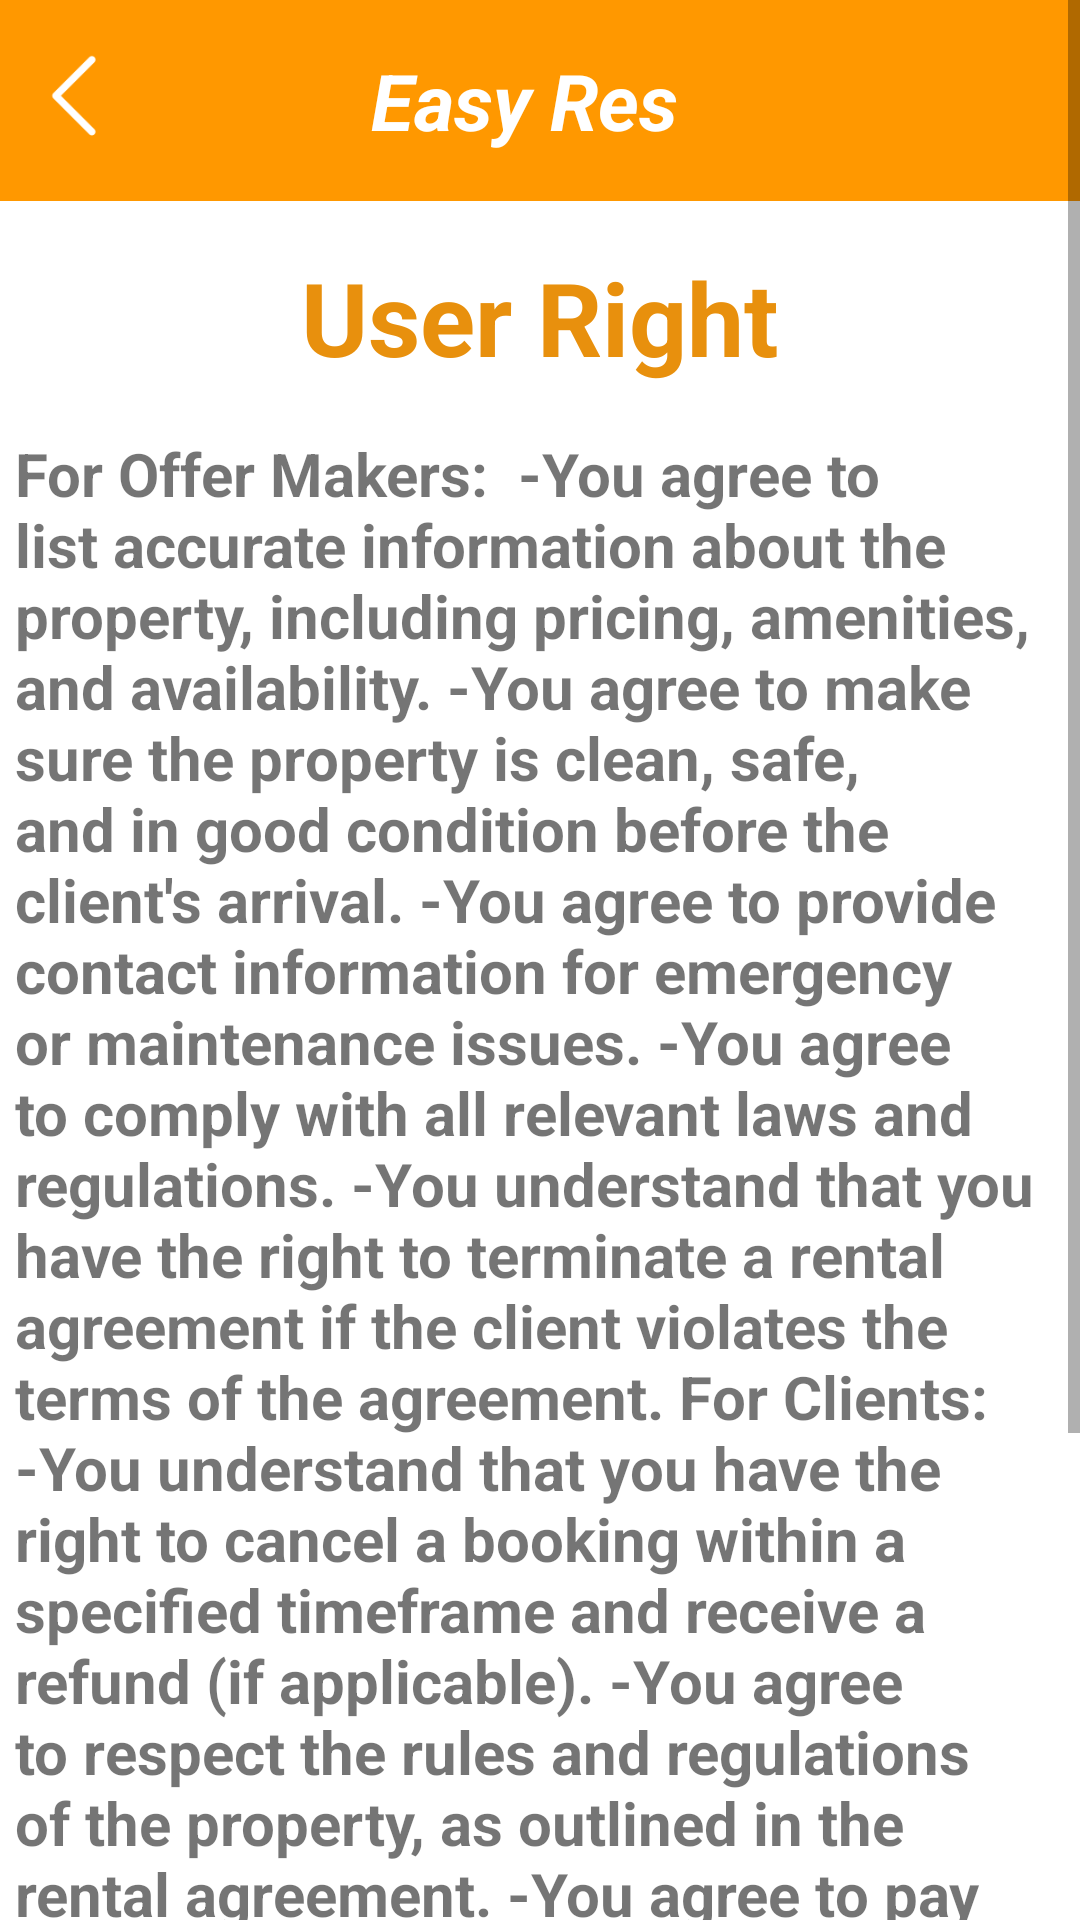

Screen size 1080px x 1920px. Icon name, then its box in pixels as (x1, y1, x2, y2):
returnicone: (52, 55, 96, 136)
